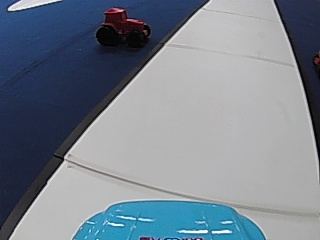tractor: (96, 5, 152, 48)
